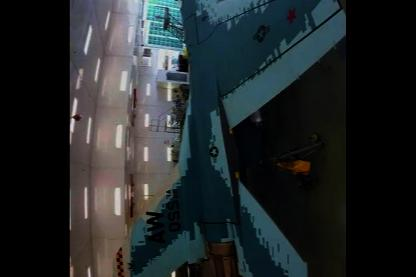F14: (111, 0, 346, 276)
